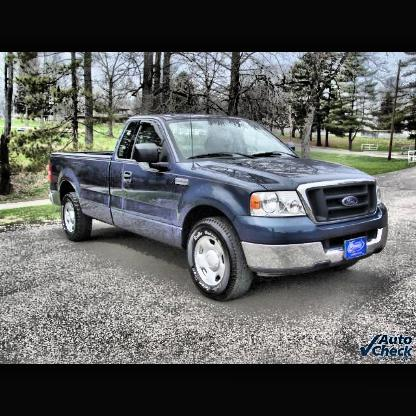Ford F-150 Regular Cab 2007: (47, 113, 390, 306)
